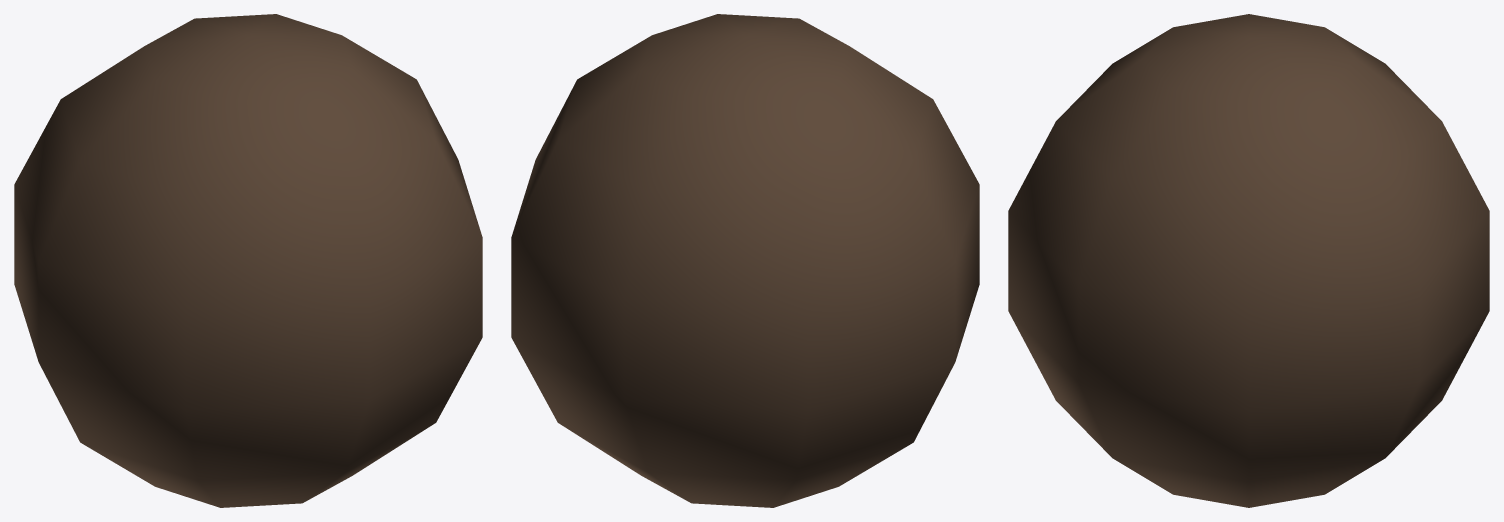
File: person-bun.glb
The picture shows the model from 3 angles, left to right: view 1: azimuth 30°, elevation 25°; view 2: azimuth 150°, elevation 25°; view 3: azimuth 270°, elevation 25°; orthographic projection.
Parts seen in each view (by area): view 1: 00_#5a4636_r110; view 2: 00_#5a4636_r110; view 3: 00_#5a4636_r110.
Boxes of the visible parts, left/top/right/bottom form: 00_#5a4636_r110: left=14, top=14, right=482, bottom=507; 00_#5a4636_r110: left=511, top=14, right=979, bottom=507; 00_#5a4636_r110: left=1008, top=14, right=1489, bottom=507.
Bounding box in the file's own units: 0.2535 × 0.26 × 0.2535.
